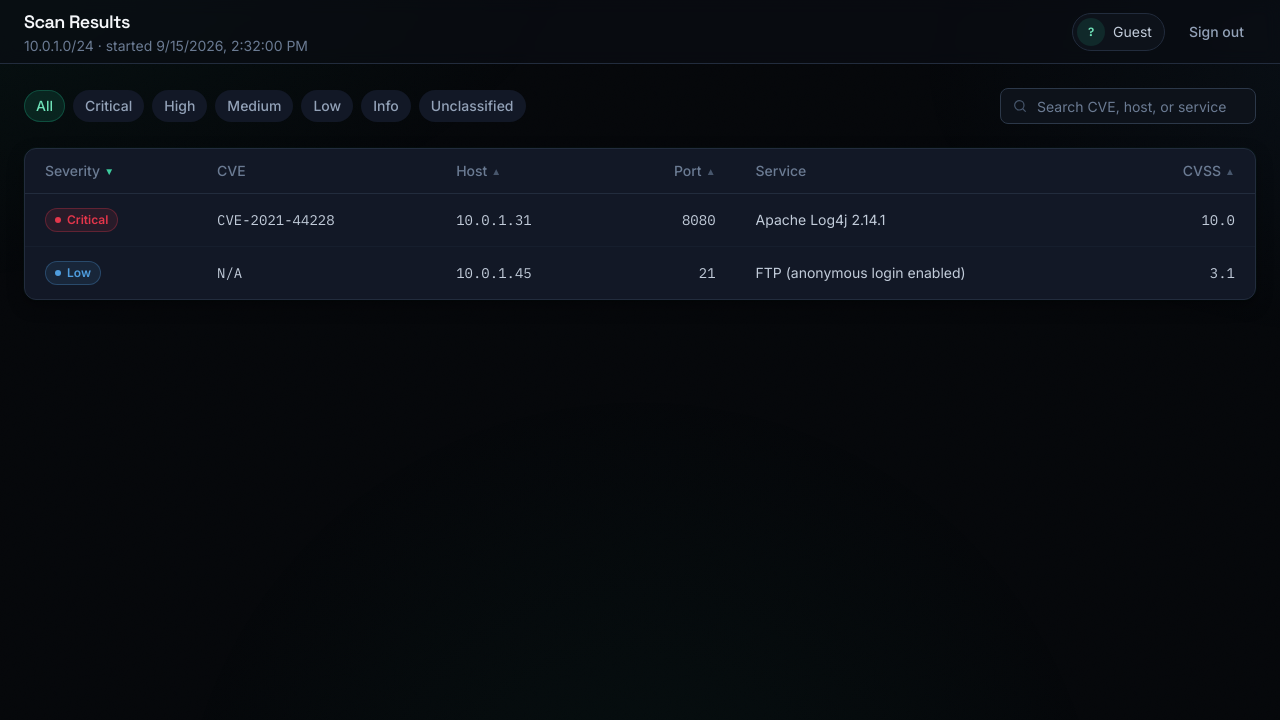
ScanResults › reveals remediation guidance at Level 3
This screenshot has width=1280, height=720.
Click the text "CVE-2021-44228".
click(276, 220)  # box [217, 211, 335, 229]
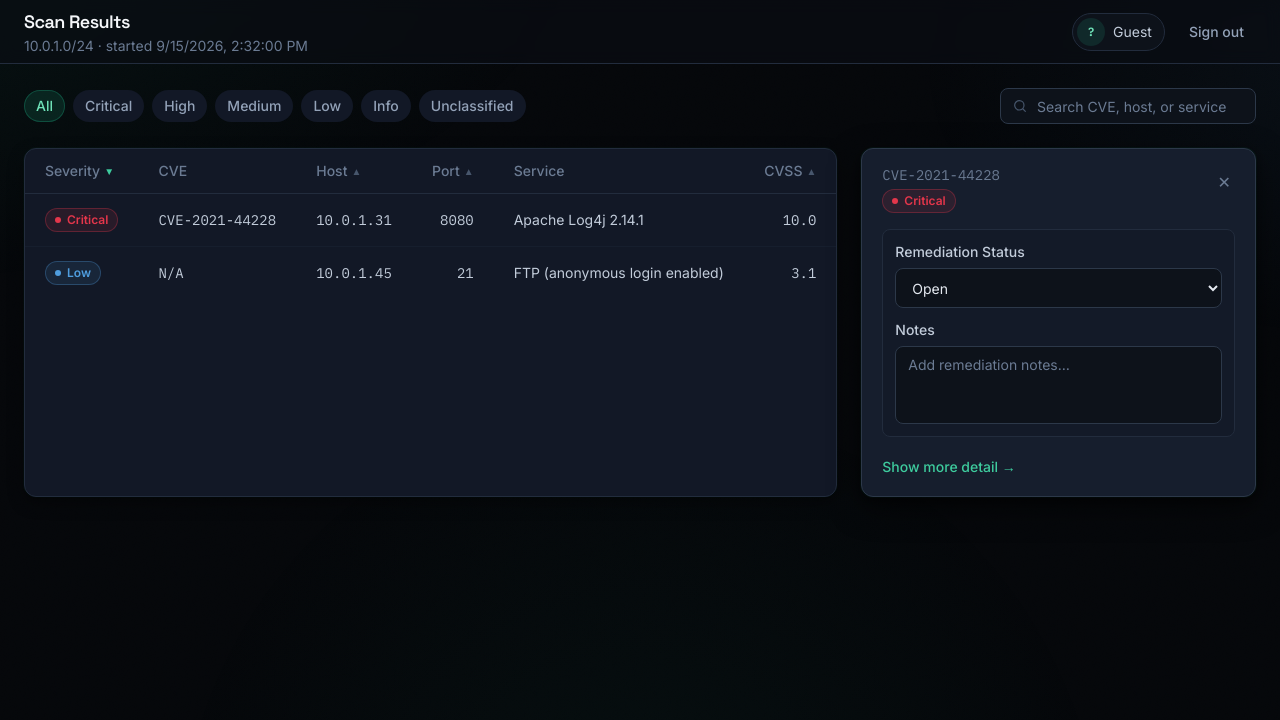
Click the button "Show more detail →".
click(949, 467)  # box [882, 457, 1016, 477]
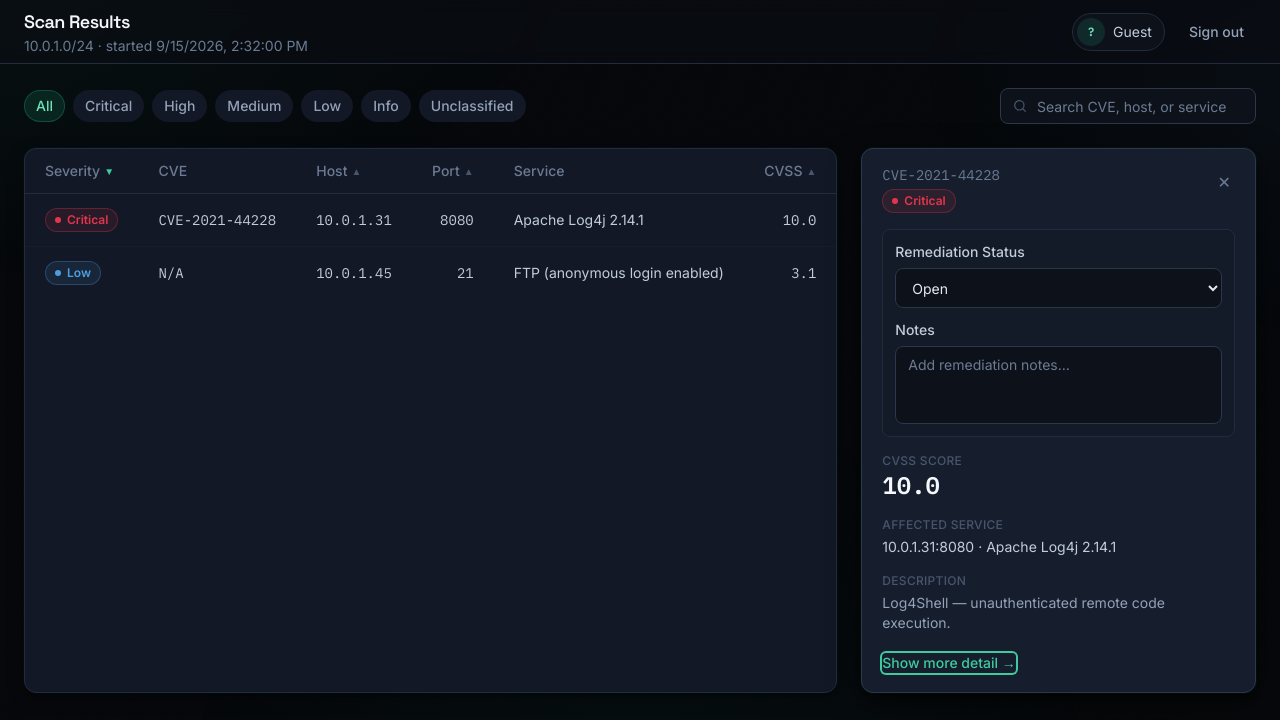
Click the button "Show more detail →".
click(949, 663)  # box [882, 653, 1016, 673]
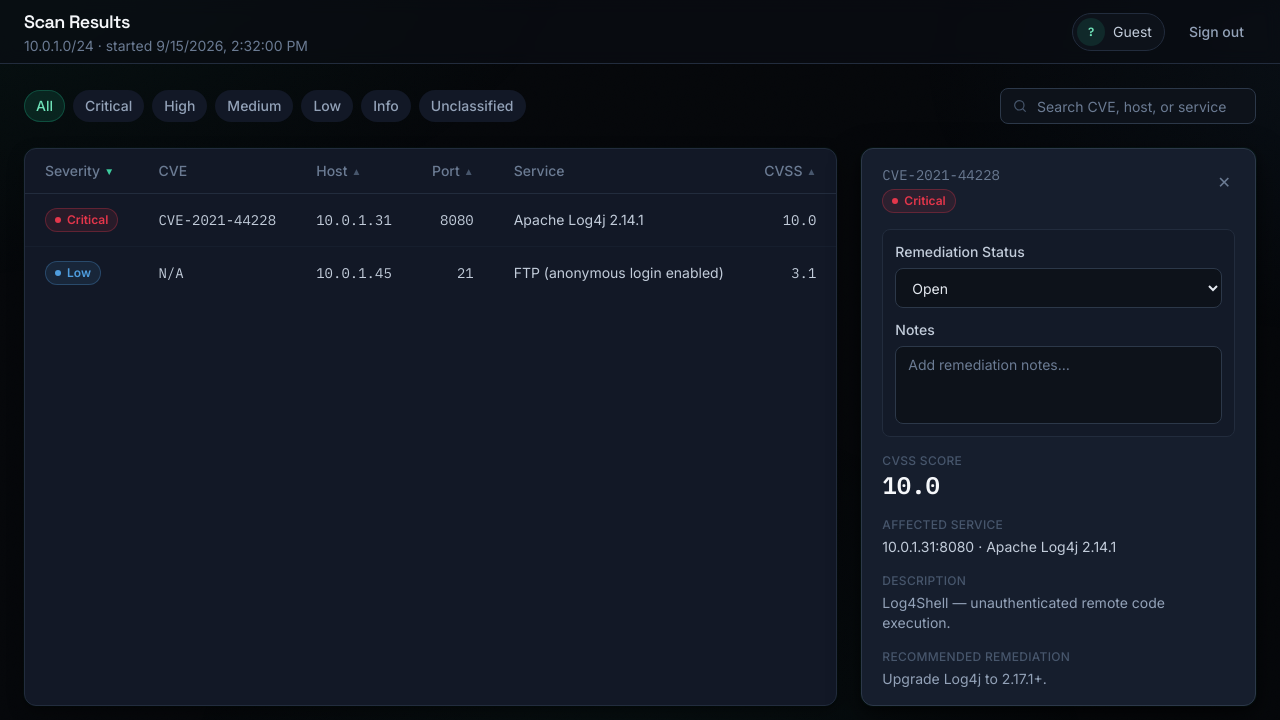
Expected: the text "Upgrade Log4j to 2.17.1+." is shown, [882, 670, 1047, 687]
Expected: the button "Show more detail →" is gone
